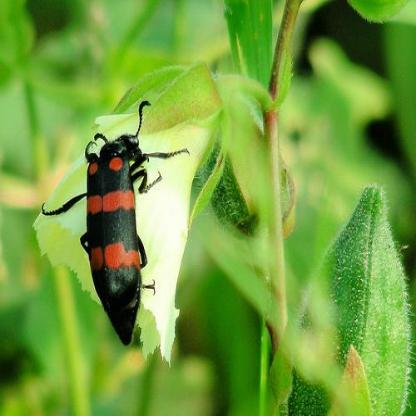beetle: (66, 96, 164, 344)
